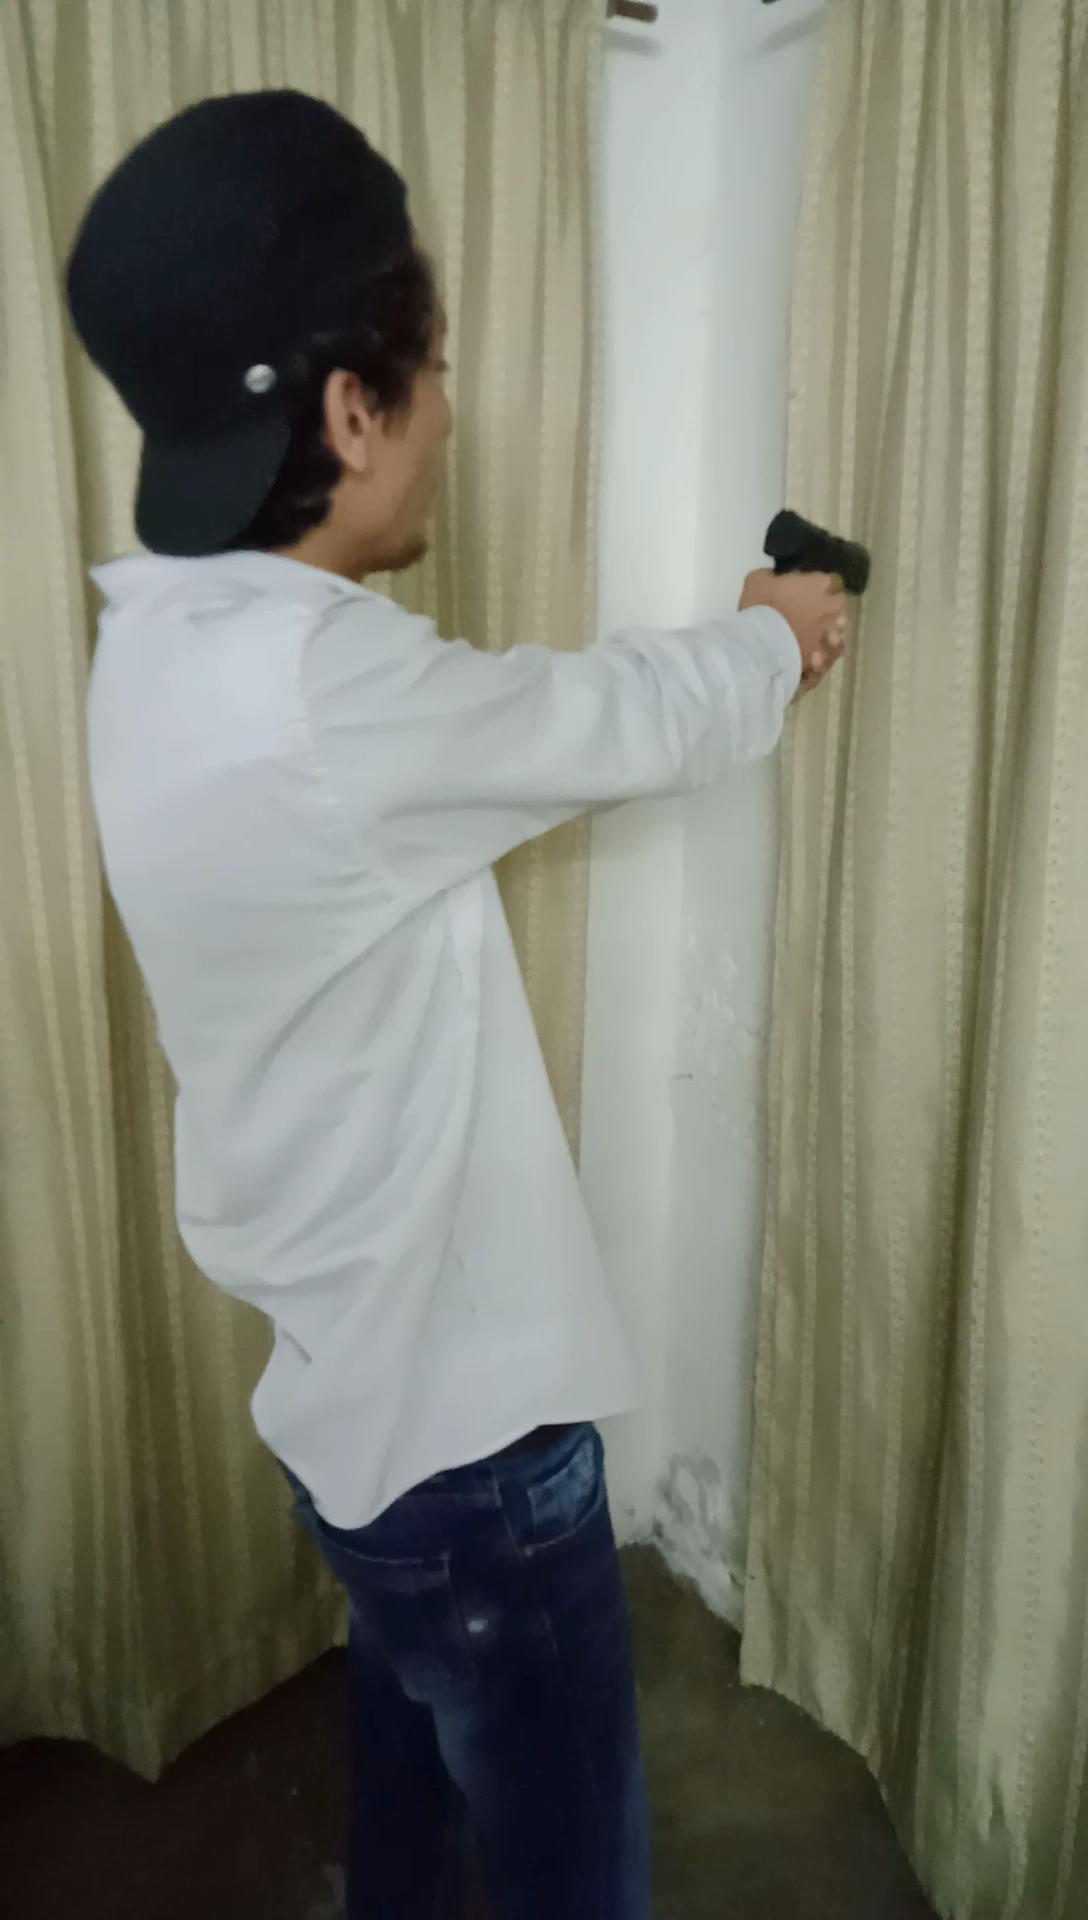criminal: (59, 76, 876, 1920)
weapon: (750, 496, 881, 644)
